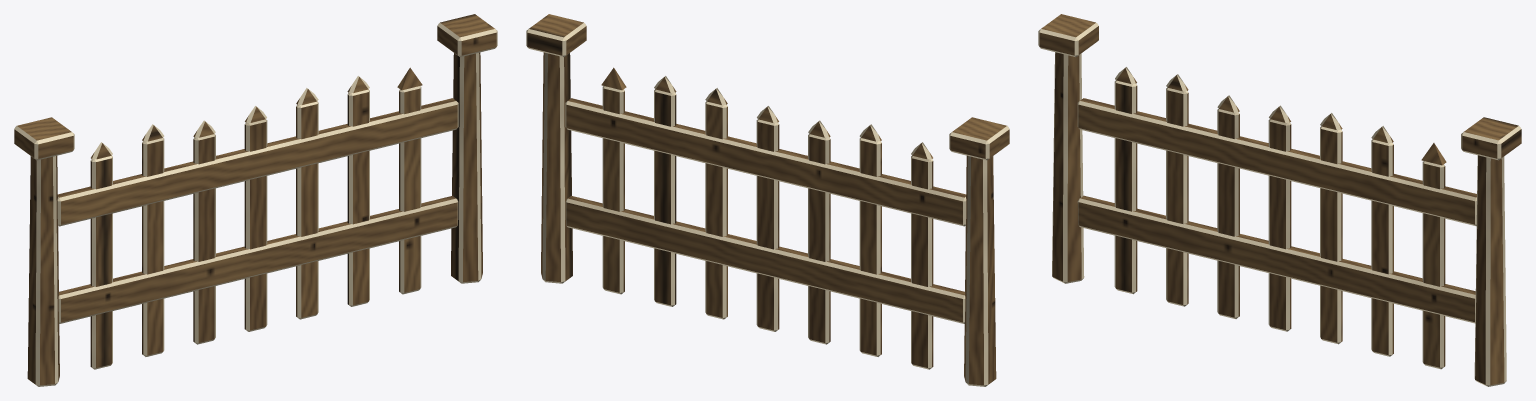
Rendered from Env_Fence_Picket_2m.fbx.
The picture shows the model from 3 angles, left to right: view 1: azimuth 30°, elevation 25°; view 2: azimuth 150°, elevation 25°; view 3: azimuth 330°, elevation 25°; orthographic projection.
Visible parts, largest first — view 1: Env_Fence_Picket_2m; view 2: Env_Fence_Picket_2m; view 3: Env_Fence_Picket_2m.
Boxes of the visible parts, bbox=[...] form: Env_Fence_Picket_2m: bbox=[14, 14, 497, 386]; Env_Fence_Picket_2m: bbox=[526, 14, 1009, 386]; Env_Fence_Picket_2m: bbox=[1038, 14, 1521, 386].
Size of the model in its own units: 219 by 19 by 114.
